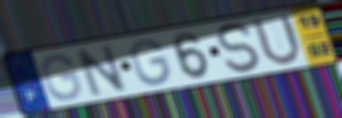6: (170, 31, 212, 81)
G: (39, 53, 84, 103), (129, 38, 173, 88)
N: (72, 42, 130, 99)
S: (213, 21, 266, 75)
U: (248, 12, 304, 68)
